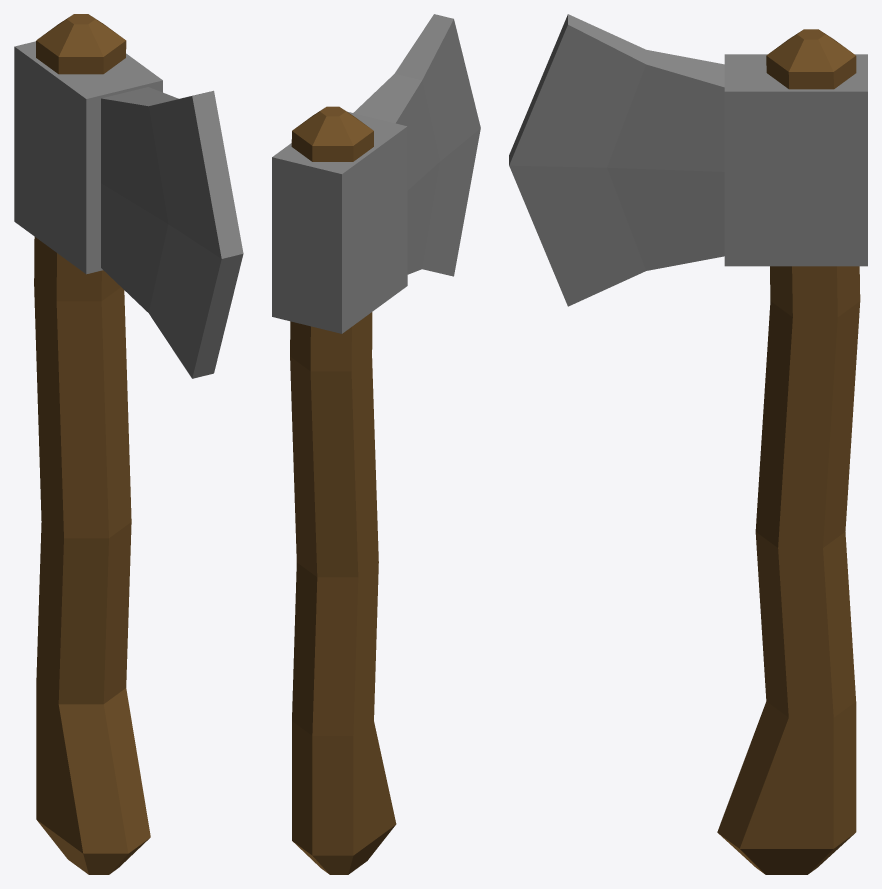
The model's file is Hatchet.fbx.
The picture shows the model from 3 angles, left to right: view 1: azimuth 30°, elevation 25°; view 2: azimuth 150°, elevation 25°; view 3: azimuth 270°, elevation 25°; orthographic projection. The views are drawn at different scales.
Parts seen in each view (by area): view 1: Axe; view 2: Axe; view 3: Axe.
Boxes of the visible parts, x1=… form: Axe: x1=14, y1=14, x2=243, y2=874; Axe: x1=272, y1=14, x2=480, y2=874; Axe: x1=509, y1=14, x2=867, y2=874.
Size of the model in its own units: 15.75 by 167 by 63.9.
